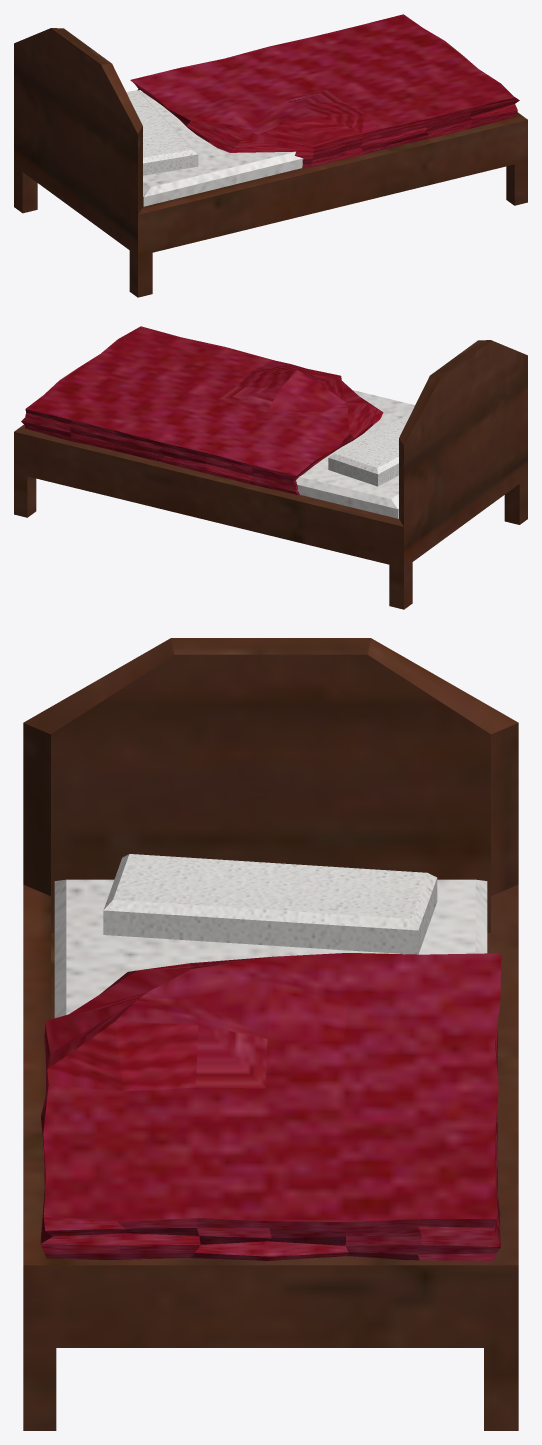
Rendered from bed-small.fbx.
The picture shows the model from 3 angles, top to bottom: view 1: azimuth 30°, elevation 25°; view 2: azimuth 150°, elevation 25°; view 3: azimuth 270°, elevation 25°; orthographic projection. The views are drawn at different scales.
Parts seen in each view (by area): view 1: Cube.017, Cube.020, Cube.018, Cube.019; view 2: Cube.017, Cube.020, Cube.018, Cube.019; view 3: Cube.017, Cube.020, Cube.019, Cube.018.
Part boxes in pixels (x1,y1,x2,y2): Cube.017: (14,28,527,297); Cube.020: (130,14,519,167); Cube.018: (138,90,303,206); Cube.019: (126,90,198,175); Cube.017: (14,340,527,609); Cube.020: (21,326,383,494); Cube.018: (296,390,414,518); Cube.019: (328,412,411,486); Cube.017: (23,638,518,1430); Cube.020: (40,953,501,1260); Cube.019: (103,854,437,954); Cube.018: (54,879,487,1017).
Size of the model in its own units: 400 by 202 by 220.
